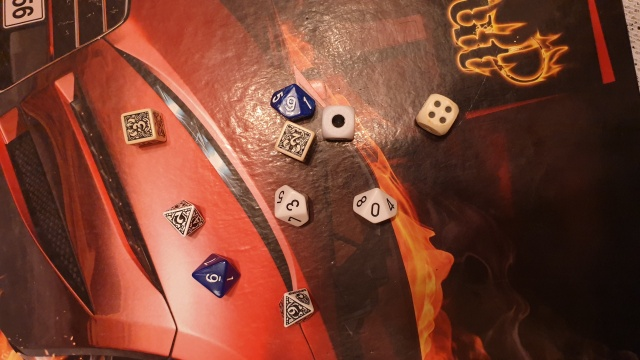d10-10: (347, 183, 401, 228)
d10-3: (273, 185, 314, 229)
d10-6: (201, 268, 225, 289)
d10-9: (270, 84, 316, 122)
d6-1: (320, 107, 357, 141)
d6-4: (415, 91, 462, 139)
d6p-2: (275, 121, 313, 162)
d6p-3: (119, 109, 167, 148)
d8p-2: (163, 198, 206, 239)
d8p-6: (275, 285, 317, 332)
